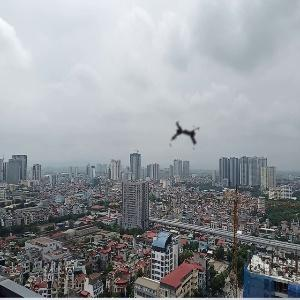drone: (155, 102, 222, 169)
